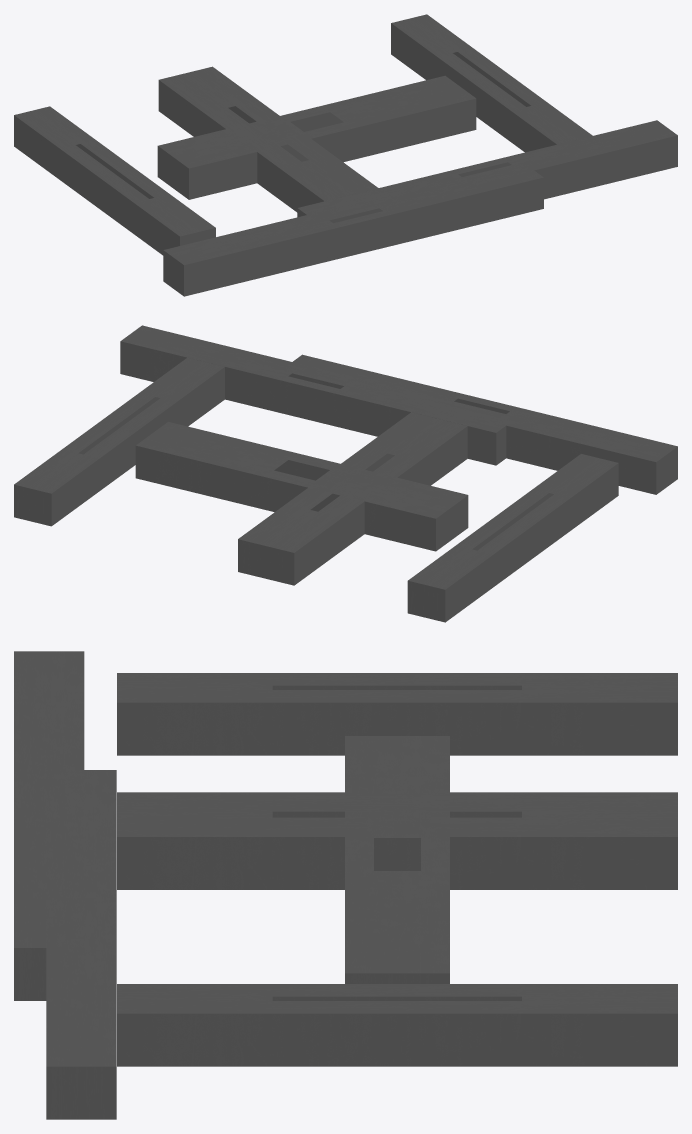
Rendered from Pallet_Cube02.glb.
3 views of the same model, one above another, from view 1: azimuth 30°, elevation 25°; view 2: azimuth 150°, elevation 25°; view 3: azimuth 270°, elevation 25° (orthographic). The views are drawn at different scales.
Parts seen in each view (by area): view 1: PiastraForata; view 2: PiastraForata; view 3: PiastraForata.
Boxes of the visible parts, x1,y1,x2,y2 form: PiastraForata: (14,14,677,296); PiastraForata: (14,325,677,622); PiastraForata: (14,651,677,1119).
Bounding box in the file's own units: 0.2519 × 0.015 × 0.1702.
Materials: 1 (1 with a texture image).
